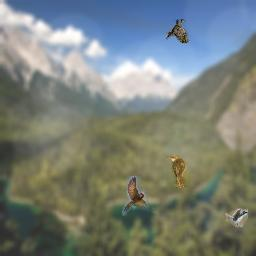Cuckoo: (166, 155, 187, 189)
Sparrow: (166, 19, 190, 44)
Swallow: (122, 176, 155, 216), (225, 208, 248, 227)
